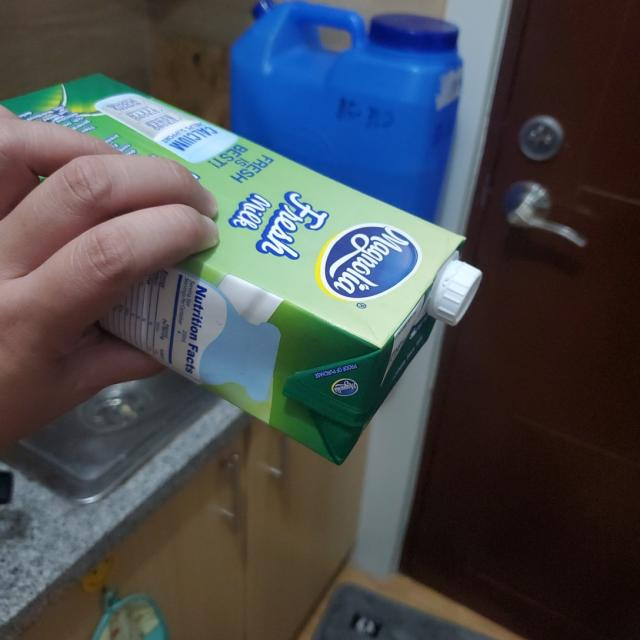milk: (0, 77, 484, 472)
